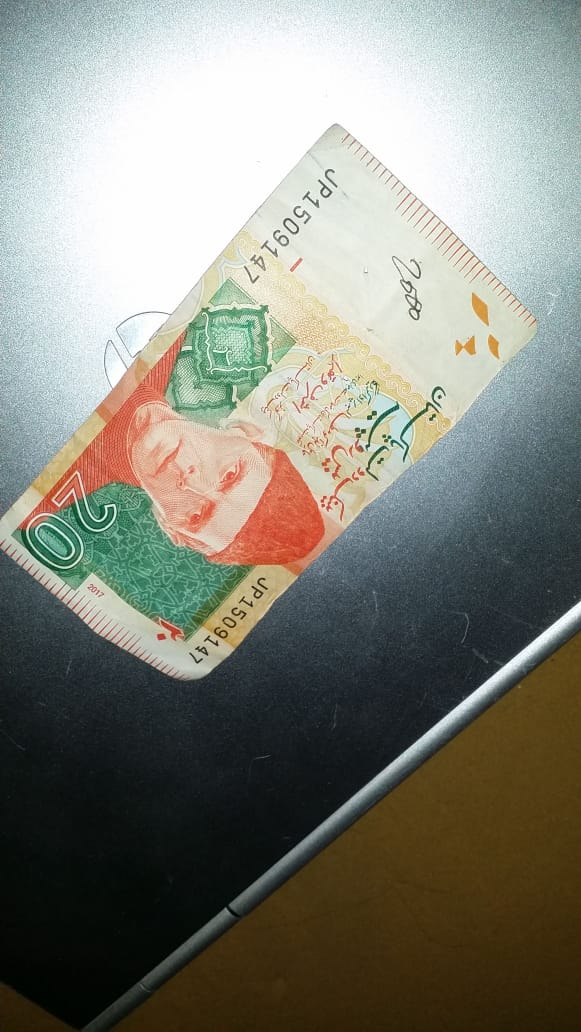20 rupee: (12, 99, 539, 744)
